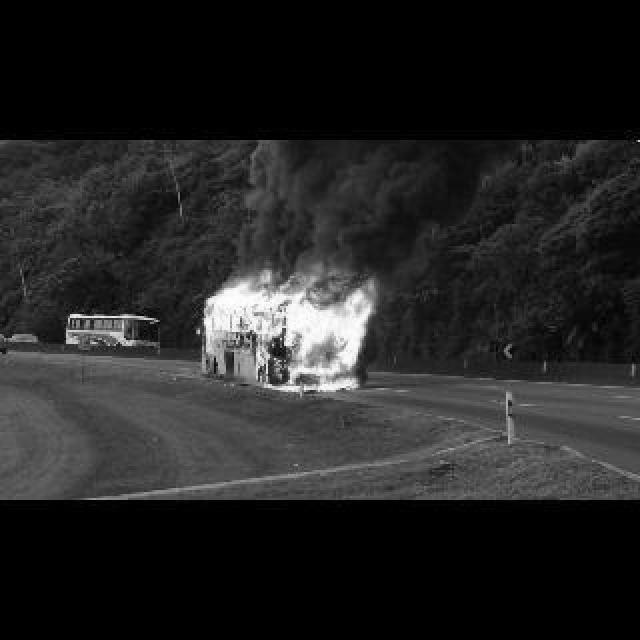fire: (192, 264, 384, 398)
smoke: (216, 140, 410, 278)
